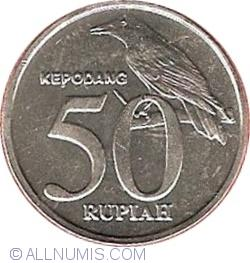coin_50_1999: (0, 0, 250, 247)
